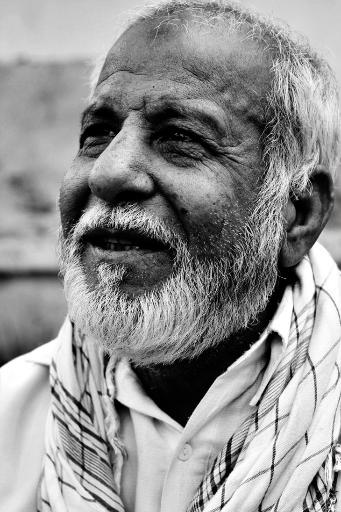left_eye: (155, 124, 210, 154)
right_lip_corner: (78, 229, 101, 255)
